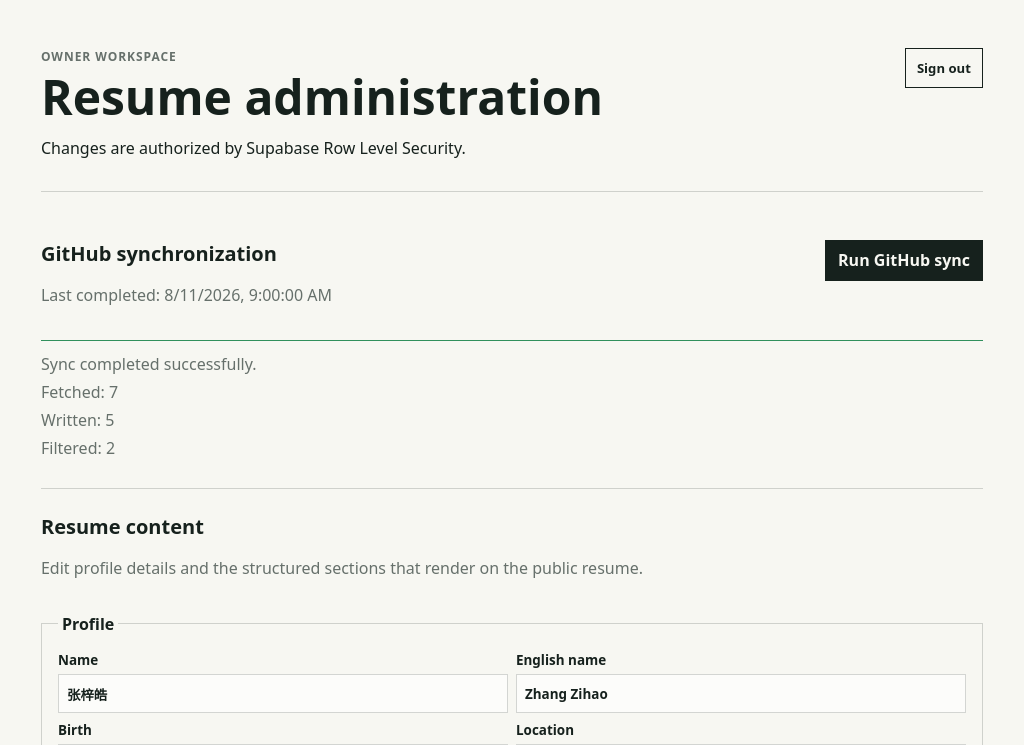
Test: AdminPage › renders successful sync counts after a manual sync
The width and height of the screenshot is (1024, 745).
Click the button "Run GitHub sync": (904, 260) [825,240,983,281]
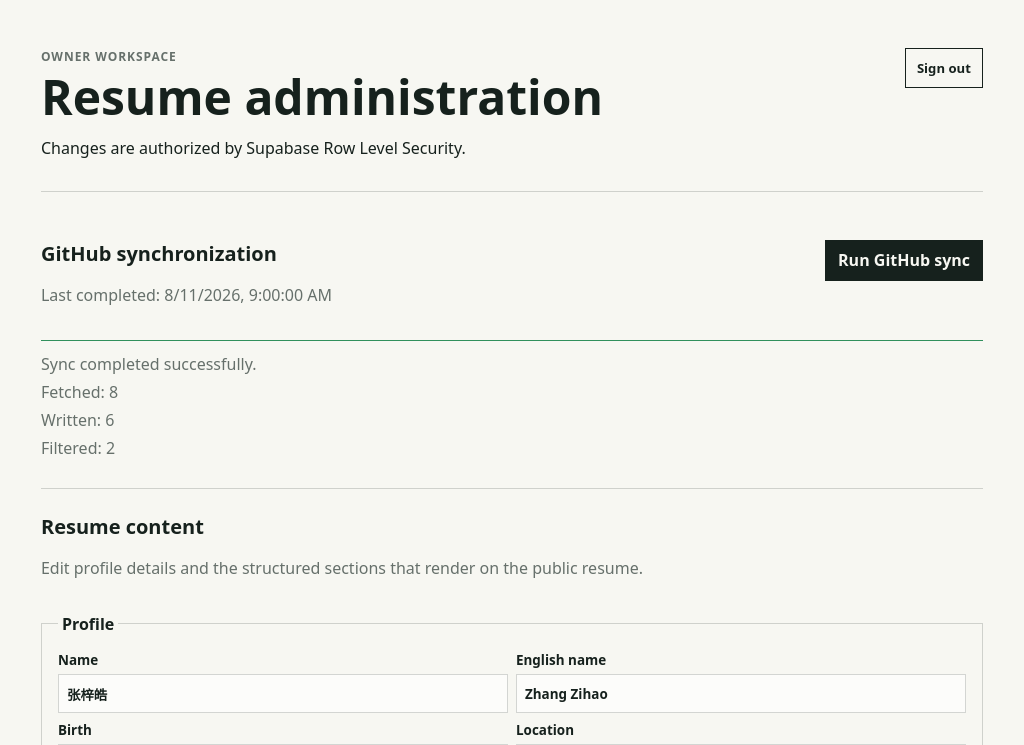
Expected: the text "Sync completed successfully." is shown, [41,353,256,375]
Expected: the text "Fetched: 8" is shown, [41,381,118,403]
Expected: the text "Written: 6" is shown, [41,409,114,431]
